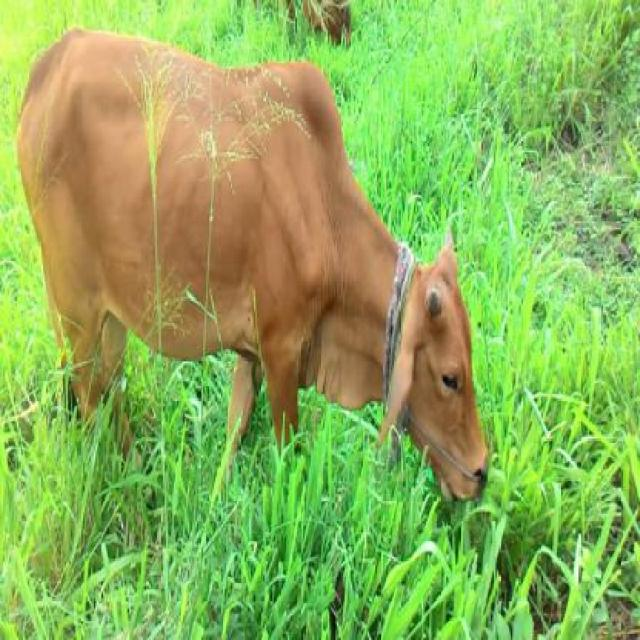Cow: (15, 26, 491, 520)
